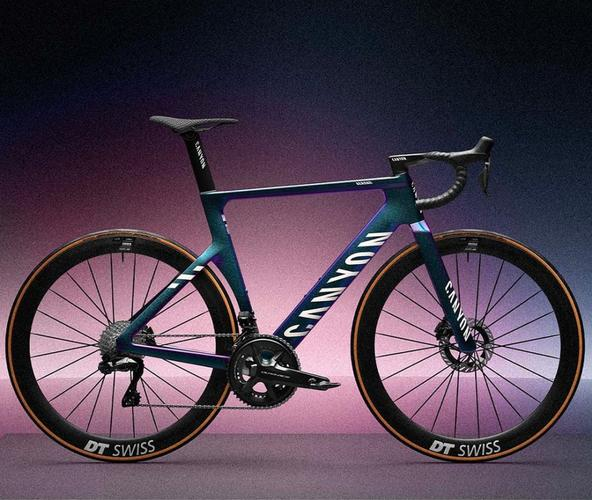单车: (1, 91, 592, 465)
